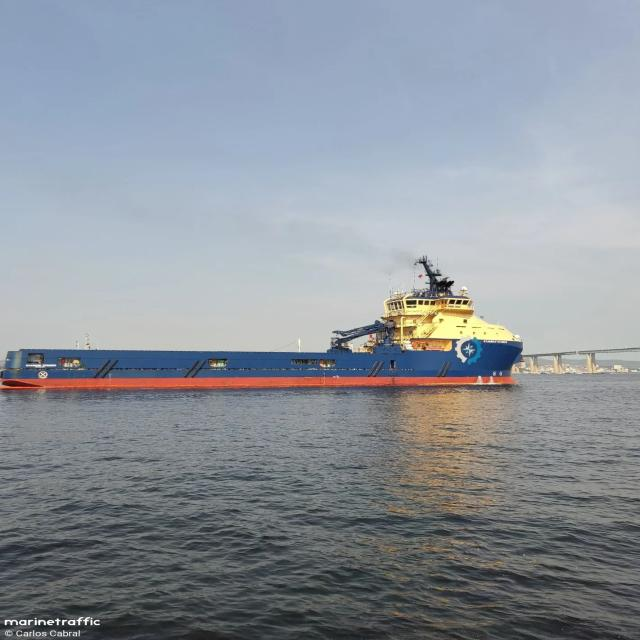Offshore: (0, 257, 523, 389)
